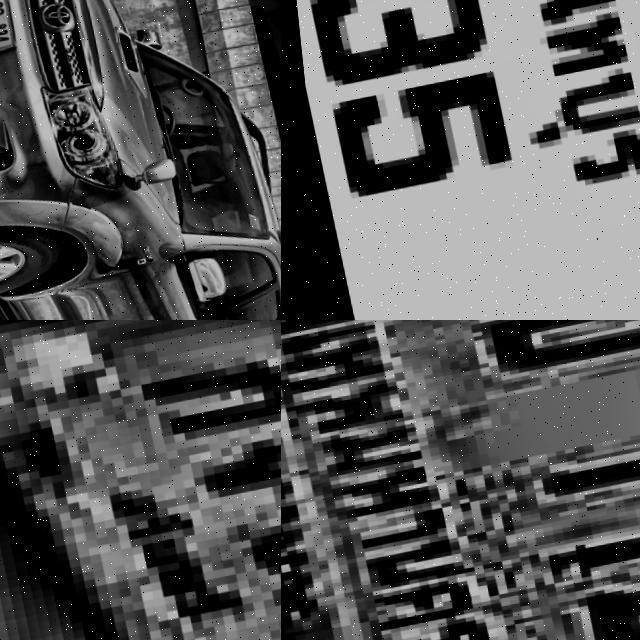license-plate: (281, 0, 640, 320), (281, 320, 640, 640), (0, 320, 281, 640), (0, 0, 19, 66)
